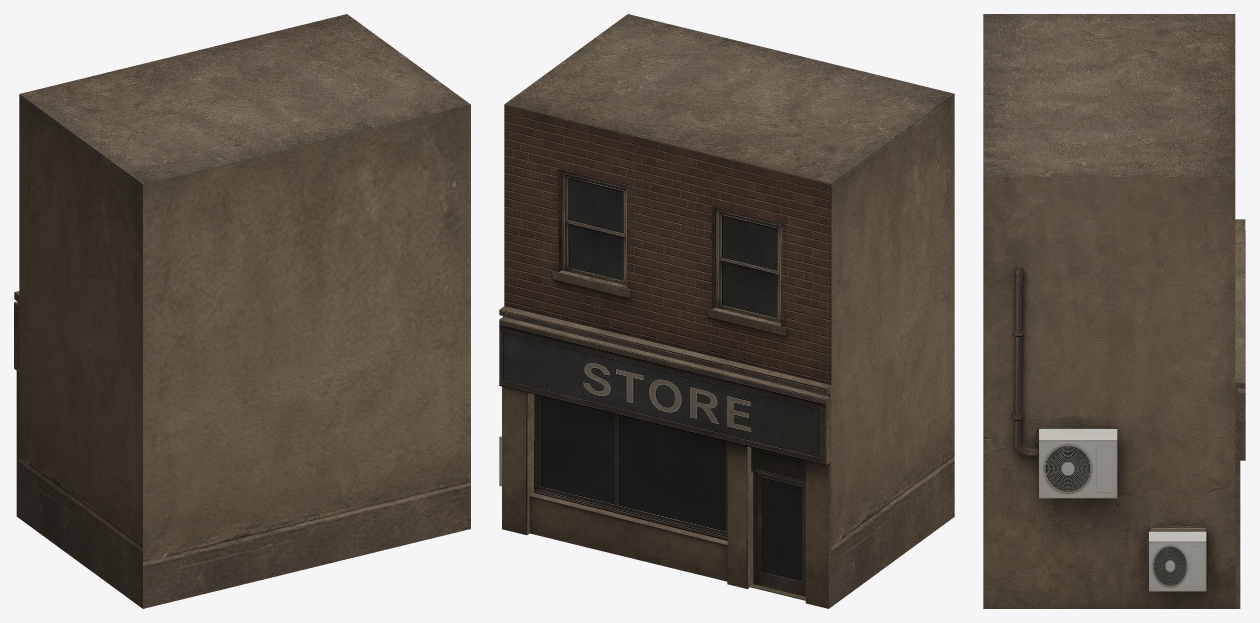
File: store.obj
3 views of the same model, side by side, from view 1: azimuth 30°, elevation 25°; view 2: azimuth 150°, elevation 25°; view 3: azimuth 270°, elevation 25° (orthographic). The views are drawn at different scales.
Parts seen in each view (by area): view 1: Store_AC_0; view 2: Store_AC_0; view 3: Store_AC_0.
Boxes of the visible parts, left/top/right/bottom form: Store_AC_0: left=14, top=14, right=470, bottom=608; Store_AC_0: left=499, top=14, right=954, bottom=608; Store_AC_0: left=983, top=14, right=1245, bottom=608.
Bounding box in the file's own units: 7.56 × 8.77 × 4.83.
